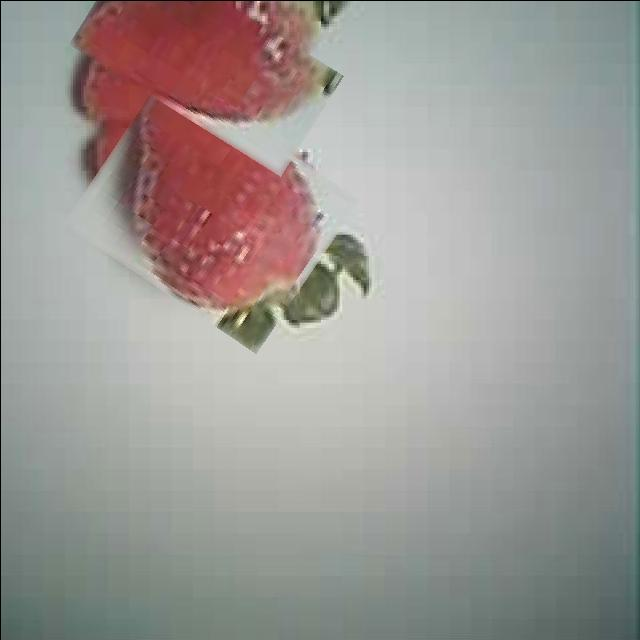strawberry: (79, 94, 344, 328), (74, 0, 337, 148)
